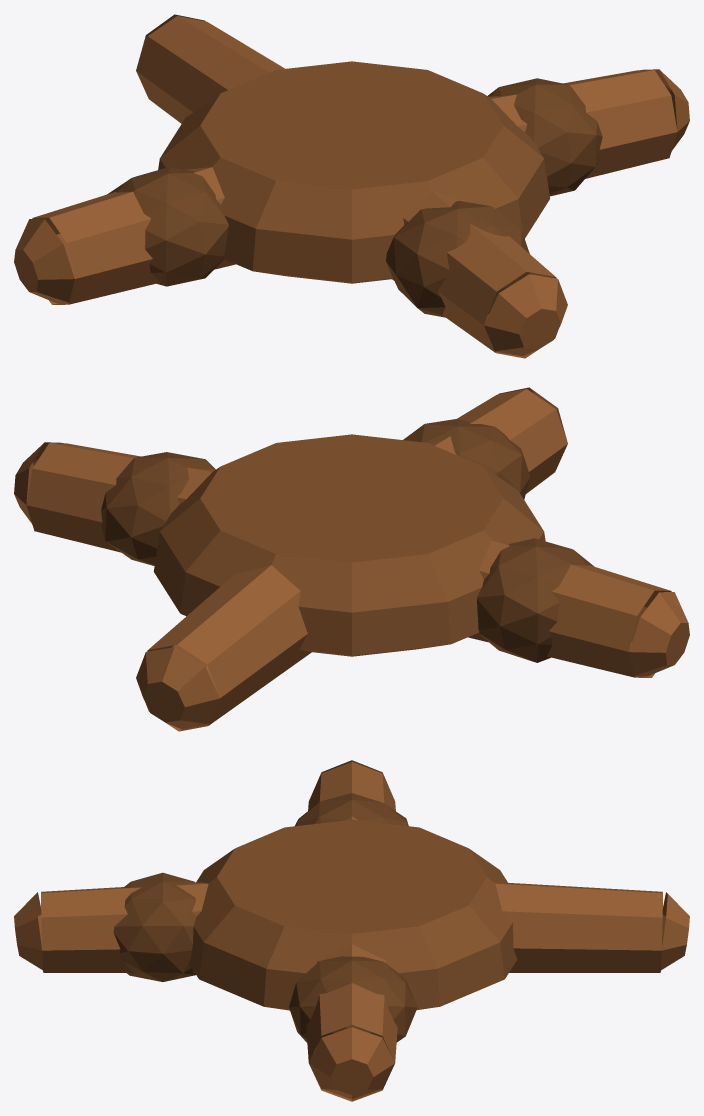
File: KnottedRoot.obj
3 views of the same model, one above another, from view 1: azimuth 30°, elevation 25°; view 2: azimuth 150°, elevation 25°; view 3: azimuth 270°, elevation 25° (orthographic). The views are drawn at different scales.
Visible parts, largest first — view 1: KnottedRoot_KnottedBase, KnottedRoot_KnottedRoots, KnottedRoot_KnottedKnots; view 2: KnottedRoot_KnottedBase, KnottedRoot_KnottedRoots, KnottedRoot_KnottedKnots; view 3: KnottedRoot_KnottedBase, KnottedRoot_KnottedRoots, KnottedRoot_KnottedKnots.
Part boxes in pixels (x1,y1,x2,y2): KnottedRoot_KnottedBase: [158, 61, 550, 283]; KnottedRoot_KnottedRoots: [14, 14, 689, 358]; KnottedRoot_KnottedKnots: [107, 78, 602, 317]; KnottedRoot_KnottedBase: [153, 434, 545, 656]; KnottedRoot_KnottedRoots: [14, 387, 689, 731]; KnottedRoot_KnottedKnots: [101, 419, 594, 662]; KnottedRoot_KnottedBase: [189, 820, 517, 1010]; KnottedRoot_KnottedRoots: [14, 760, 689, 1101]; KnottedRoot_KnottedKnots: [113, 793, 417, 1047].
Size of the model in its own units: 3.75 by 0.6035 by 3.75.
